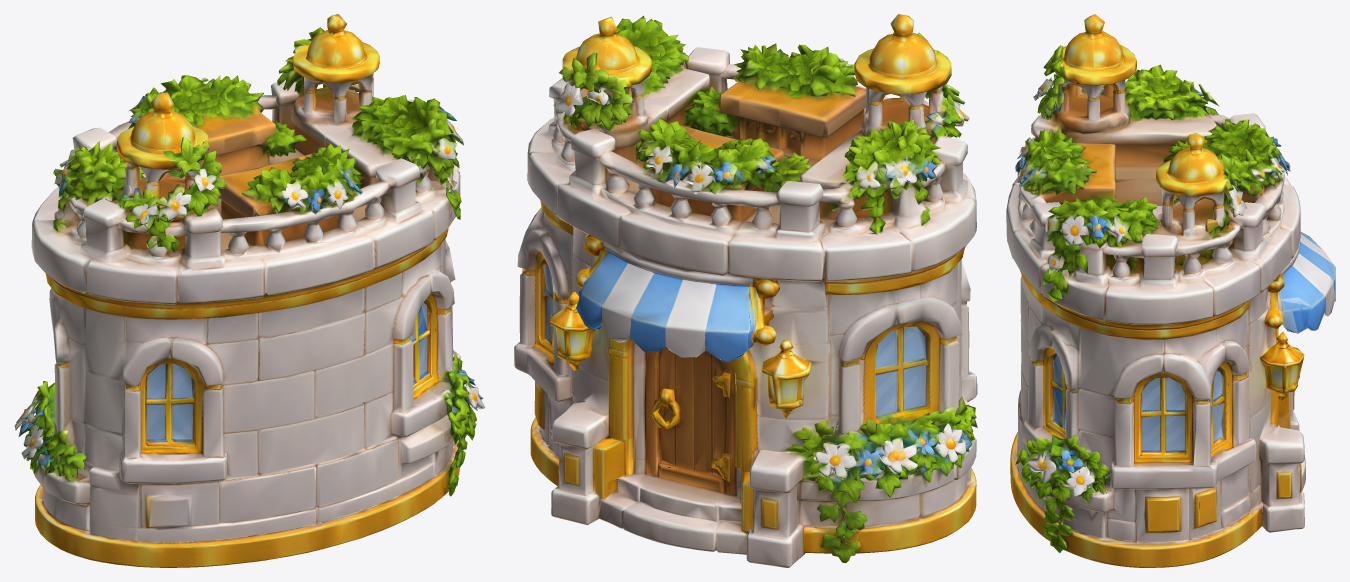
File: HaloDomeHouse_01_parts.glb
3 views of the same model, side by side, from view 1: azimuth 30°, elevation 25°; view 2: azimuth 150°, elevation 25°; view 3: azimuth 270°, elevation 25° (orthographic). The views are drawn at different scales.
Parts seen in each view (by area): view 1: HaloDomeHouse_01_Body_t01, HaloDomeHouse_01_Body_t11, HaloDomeHouse_01_Body_t10, HaloDomeHouse_01_Body_t00, HaloDomeHouse_01_Glass, HaloDomeHouse_01_WinPane; view 2: HaloDomeHouse_01_Body_t11, HaloDomeHouse_01_Body_t10, HaloDomeHouse_01_Body_t00, HaloDomeHouse_01_Body_t01, HaloDomeHouse_01_Awning, HaloDomeHouse_01_Door, HaloDomeHouse_01_Glass, HaloDomeHouse_01_WinPane, HaloDomeHouse_01_DoorHw; view 3: HaloDomeHouse_01_Body_t01, HaloDomeHouse_01_Body_t00, HaloDomeHouse_01_Body_t10, HaloDomeHouse_01_Body_t11, HaloDomeHouse_01_Glass, HaloDomeHouse_01_WinPane, HaloDomeHouse_01_Awning.
Part boxes in pixels (bbox=[...]): HaloDomeHouse_01_Body_t01: bbox=[25, 30, 476, 559]; HaloDomeHouse_01_Body_t11: bbox=[14, 38, 476, 545]; HaloDomeHouse_01_Body_t10: bbox=[21, 14, 485, 548]; HaloDomeHouse_01_Body_t00: bbox=[20, 24, 479, 567]; HaloDomeHouse_01_Glass: bbox=[146, 303, 427, 439]; HaloDomeHouse_01_WinPane: bbox=[146, 303, 426, 438]; HaloDomeHouse_01_Body_t11: bbox=[519, 15, 977, 565]; HaloDomeHouse_01_Body_t10: bbox=[516, 16, 977, 554]; HaloDomeHouse_01_Body_t00: bbox=[520, 29, 976, 553]; HaloDomeHouse_01_Body_t01: bbox=[514, 14, 976, 567]; HaloDomeHouse_01_Awning: bbox=[576, 227, 771, 362]; HaloDomeHouse_01_Door: bbox=[627, 344, 753, 502]; HaloDomeHouse_01_Glass: bbox=[543, 176, 926, 415]; HaloDomeHouse_01_WinPane: bbox=[543, 176, 927, 415]; HaloDomeHouse_01_DoorHw: bbox=[620, 371, 742, 489]; HaloDomeHouse_01_Body_t01: bbox=[1010, 14, 1302, 567]; HaloDomeHouse_01_Body_t00: bbox=[1006, 32, 1311, 560]; HaloDomeHouse_01_Body_t10: bbox=[1012, 44, 1307, 552]; HaloDomeHouse_01_Body_t11: bbox=[1006, 75, 1305, 561]; HaloDomeHouse_01_Glass: bbox=[1052, 163, 1311, 450]; HaloDomeHouse_01_WinPane: bbox=[1051, 163, 1311, 449]; HaloDomeHouse_01_Awning: bbox=[1290, 211, 1335, 333].
Size of the model in its own units: 19.22 by 20.53 by 14.59.
9 materials, 8 textured.
